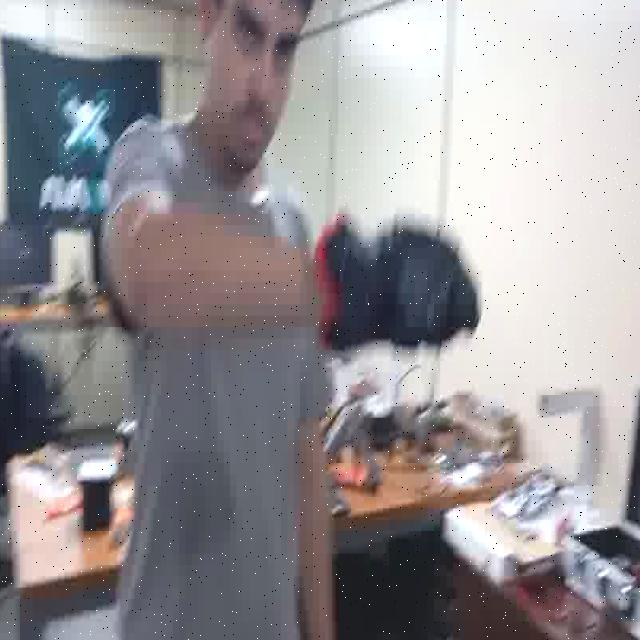Gloves: (313, 222, 485, 356)
